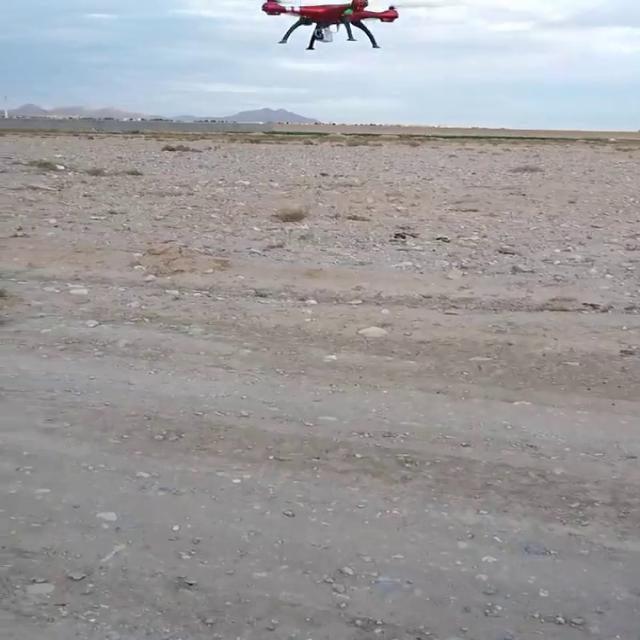drone: (256, 0, 401, 51)
